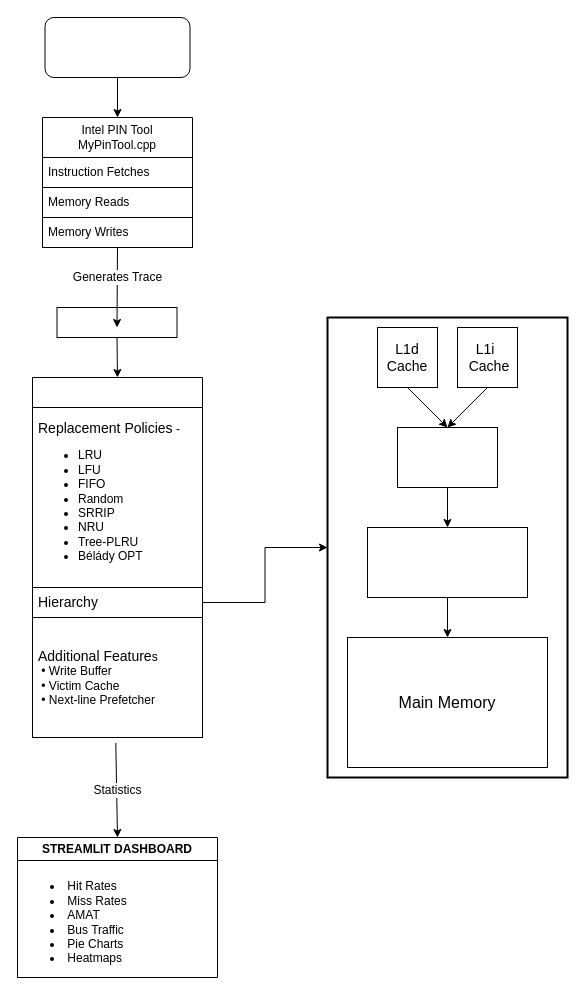
Image size: 586x995. Some labels were removed from this diagram. Each missing label, with the box of its shape:
CACHE SIMULATOR: (32, 376, 202, 738)
L2 Cache: (396, 426, 498, 488)
L3 Cache: (366, 526, 528, 598)
memory_trace.out: (56, 306, 177, 338)
USER PROGRAM (Executable / Benchmark): (44, 16, 190, 78)
